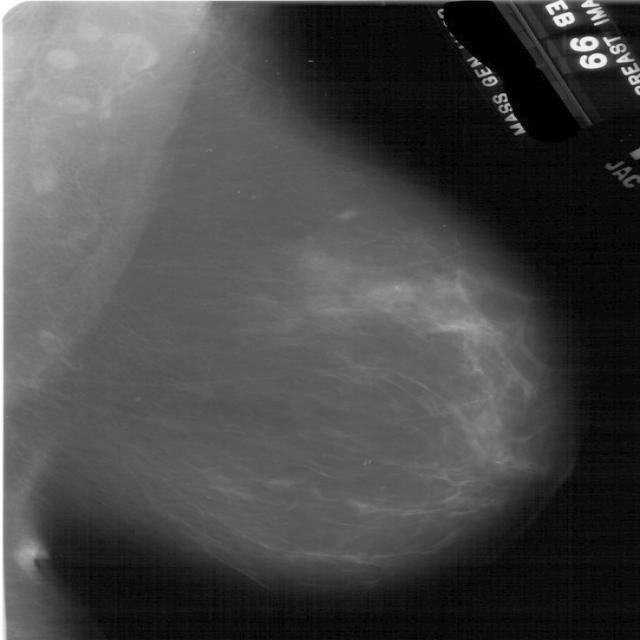tumour: (336, 208, 362, 220)
